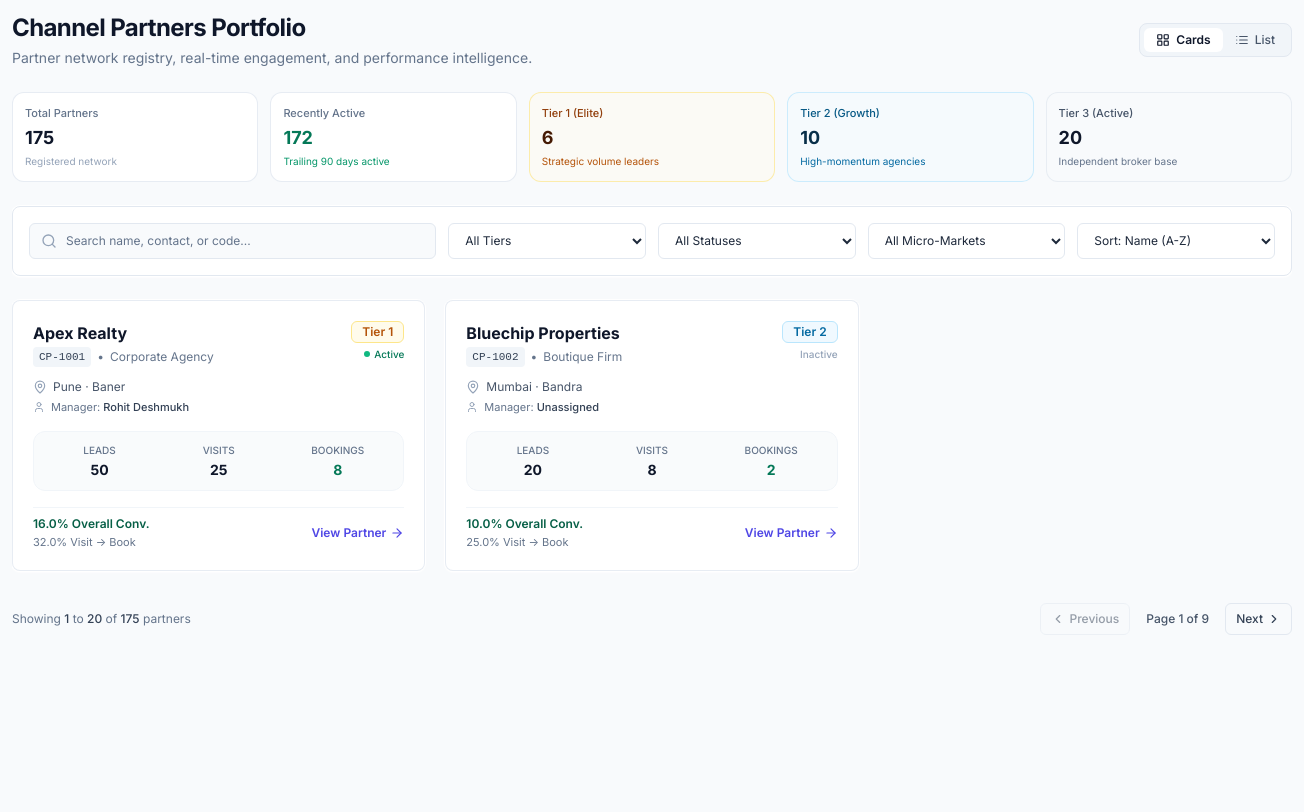
Test case: PartnersDirectoryView Component › toggles between Cards and List view modes
The image size is (1304, 812).
Expected: the element with test id "partners-cards-grid" is shown, [12,300,859,570]
Switch to List view
Click the button with test id "view-mode-list-btn".
click(1255, 40)  # box [1223,28,1287,52]
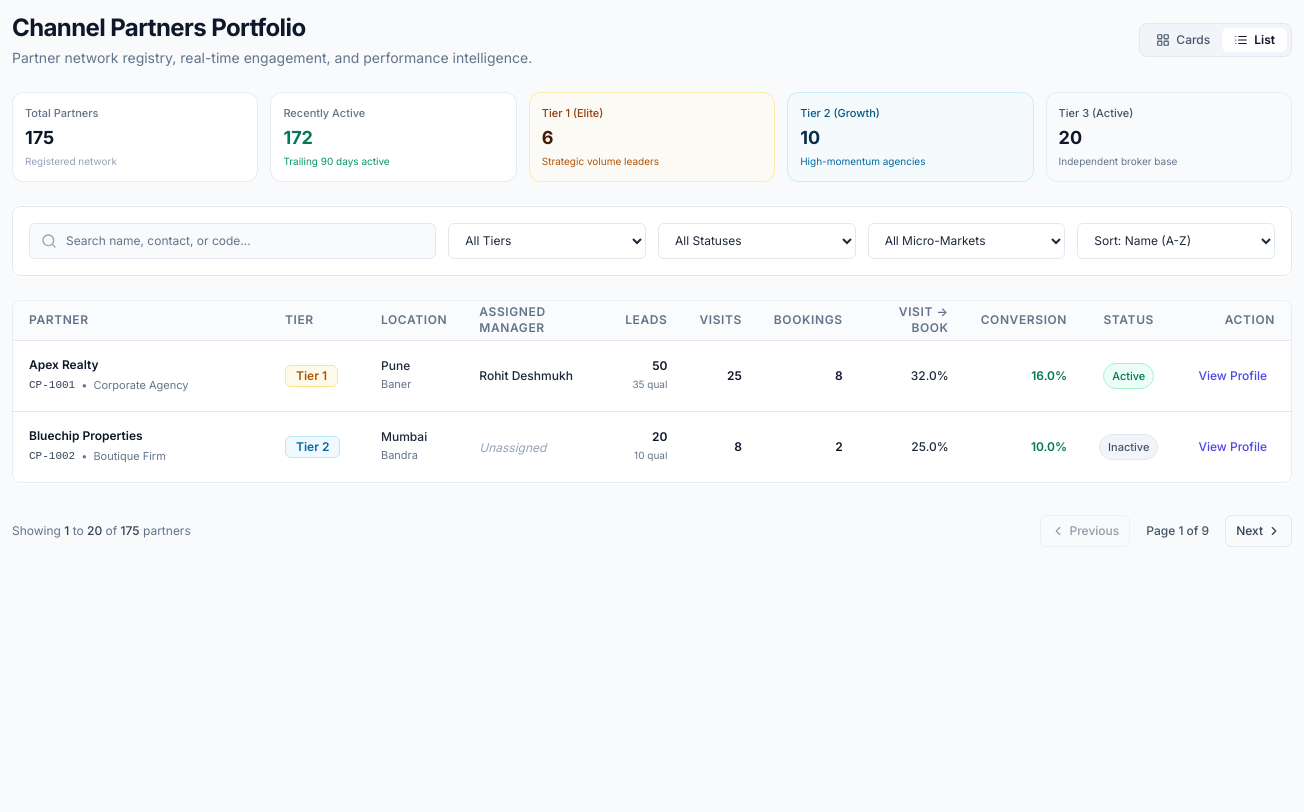
Expected: the element with test id "partners-table-card" is shown, [12,300,1292,483]
Switch back to Cards view
Click the button with test id "view-mode-cards-btn".
click(1183, 40)  # box [1144,28,1222,52]
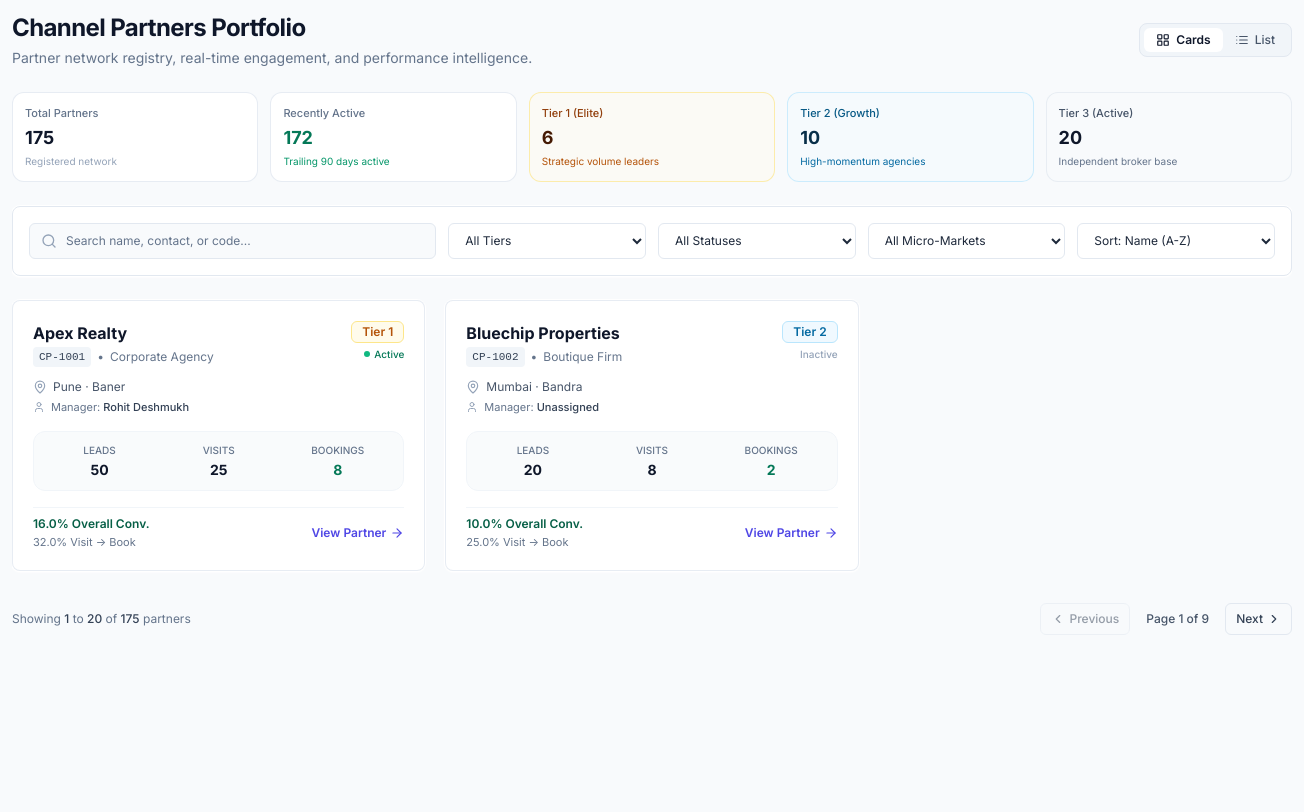
Expected: the element with test id "partners-cards-grid" is shown, [12,300,859,570]
Expected: the element with test id "partners-table-card" is gone
